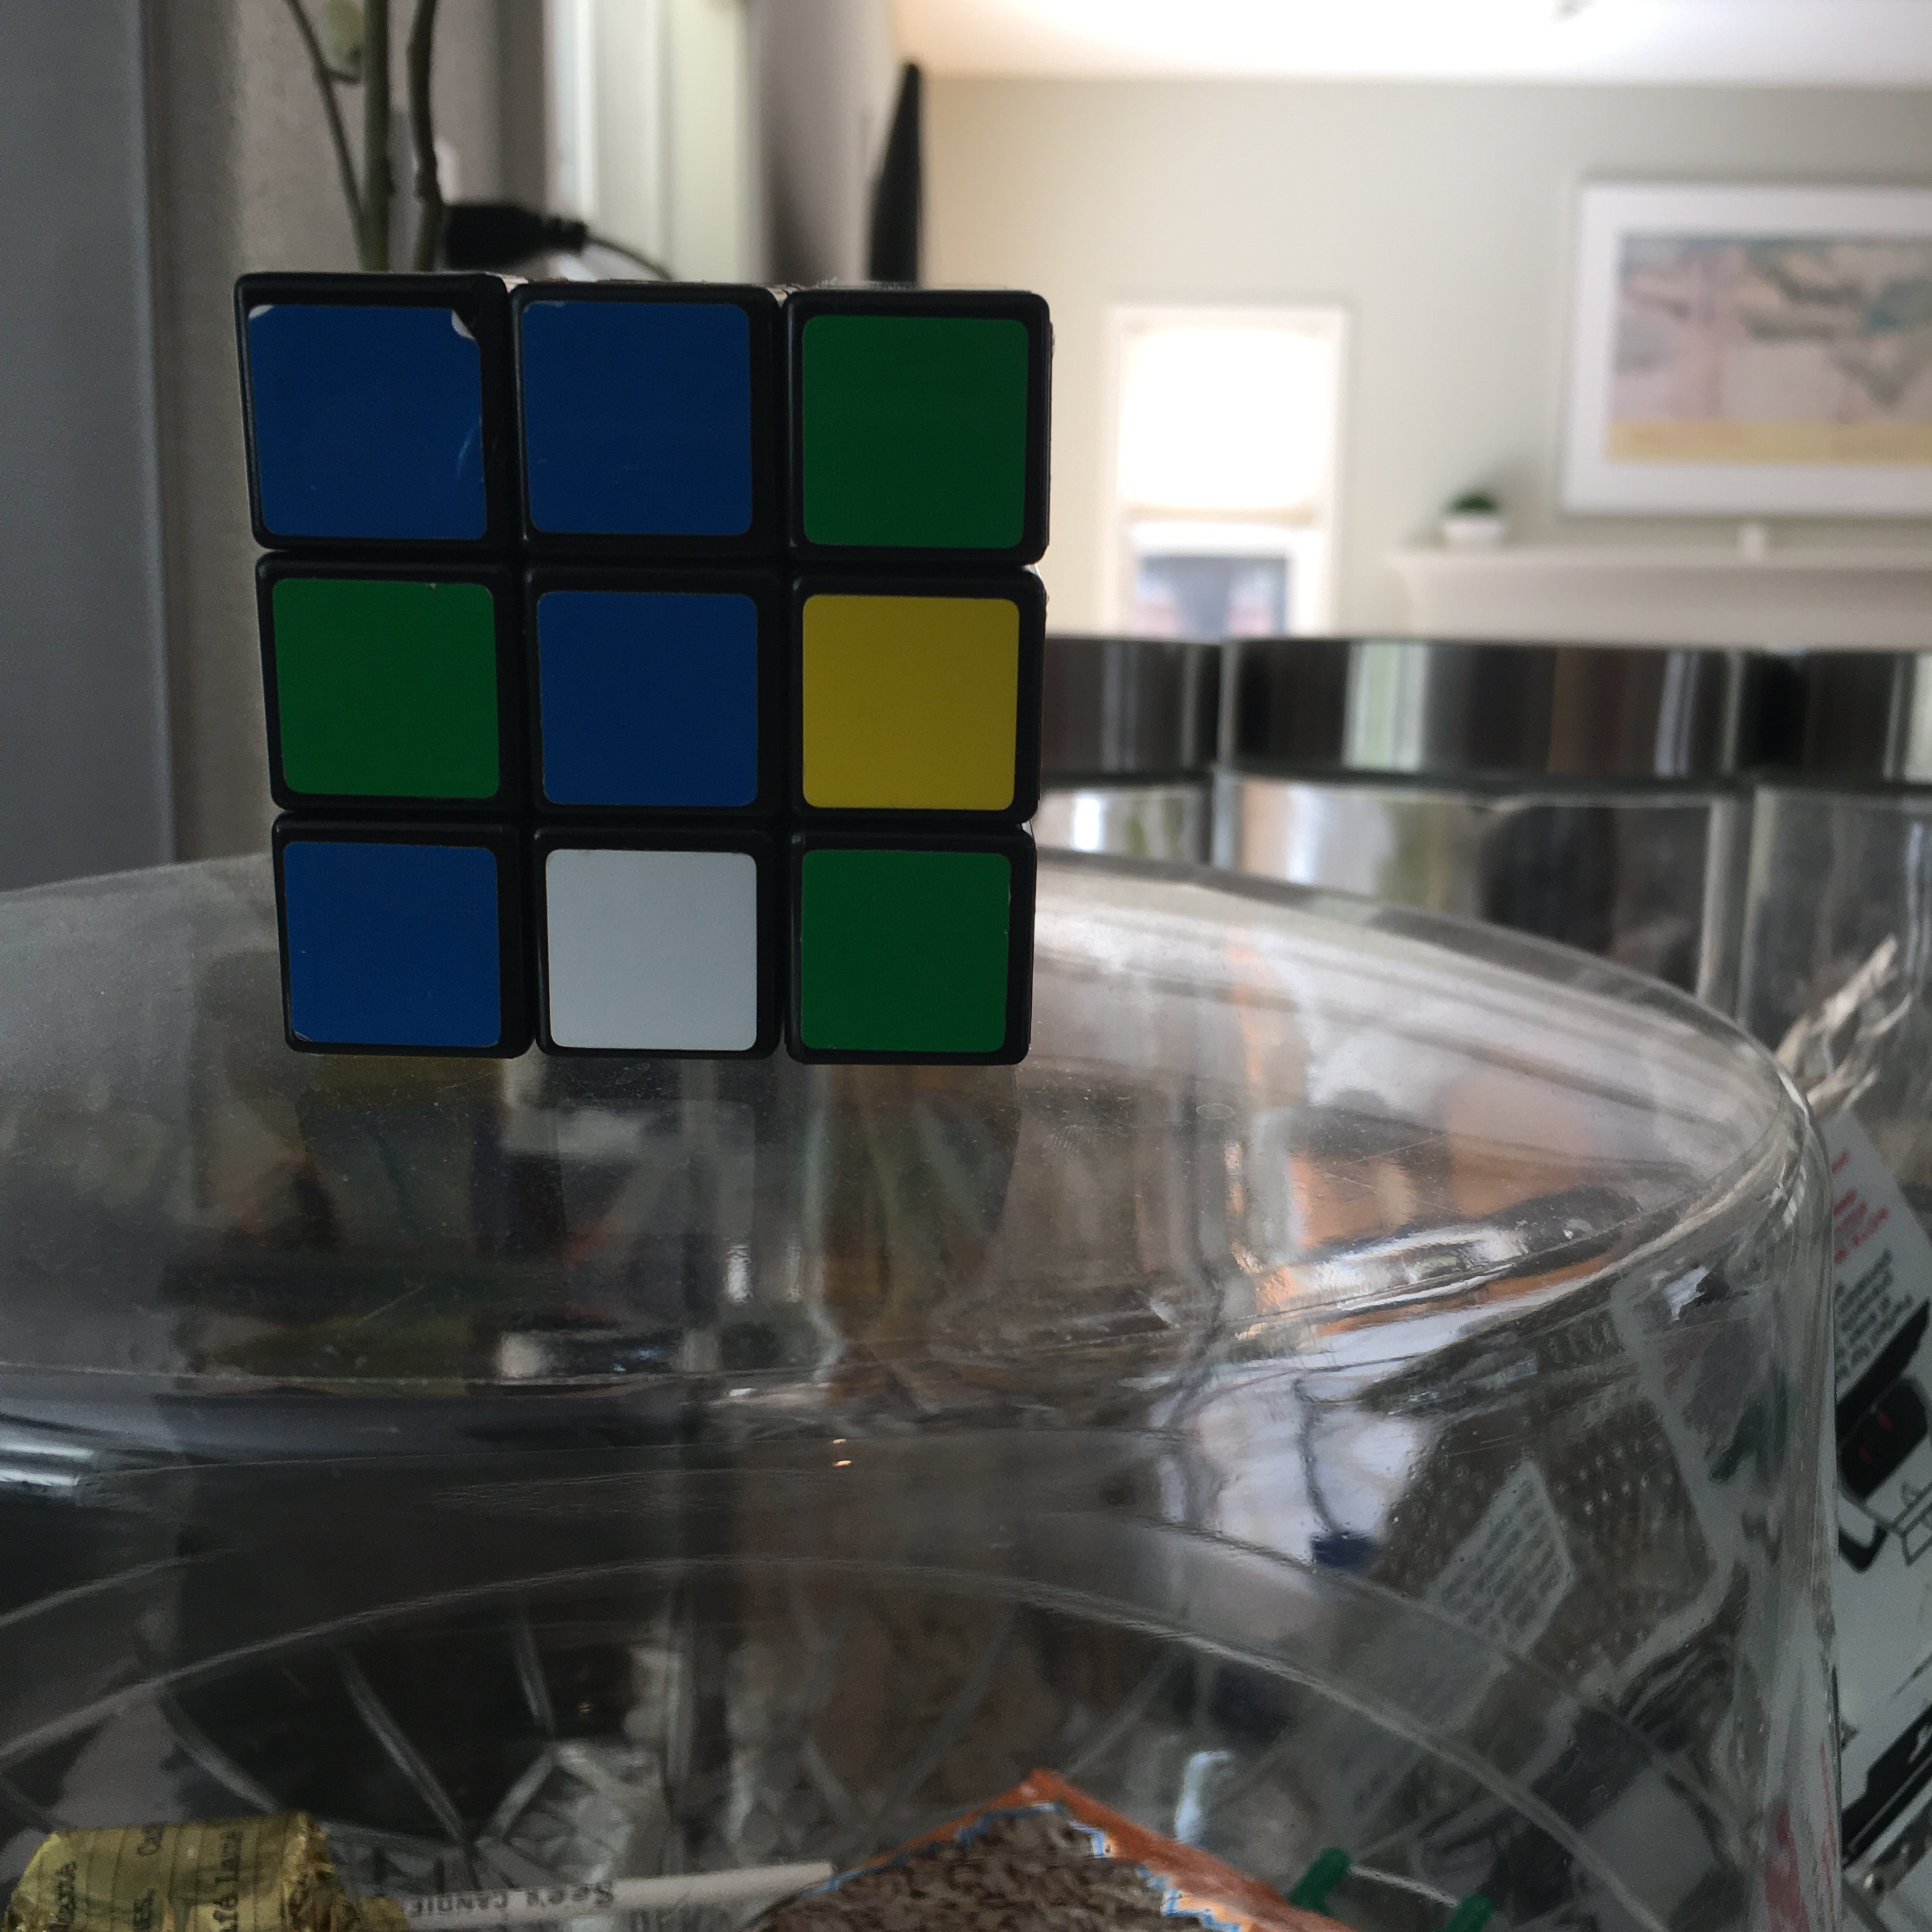face: (236, 275, 1032, 1067)
